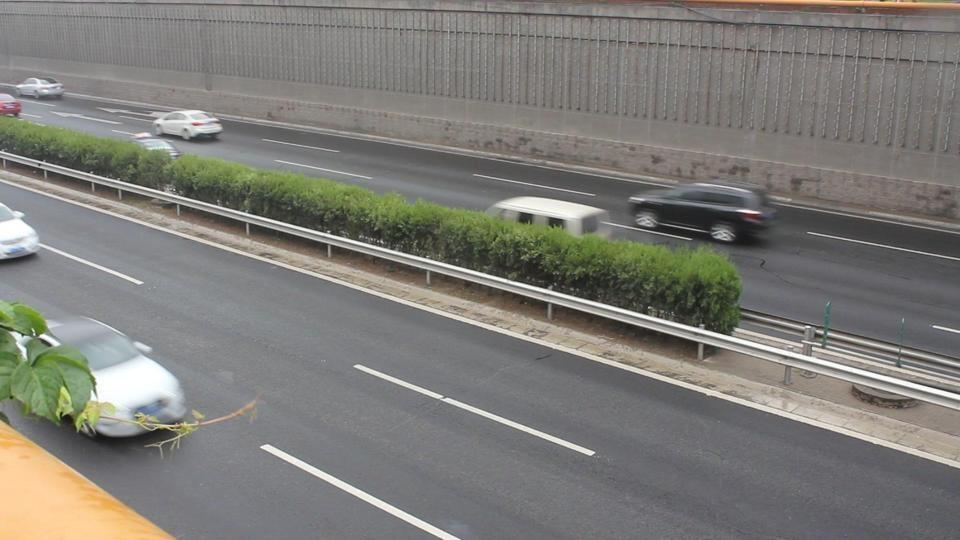car: (1, 301, 191, 445), (627, 182, 779, 246), (489, 197, 603, 236), (150, 109, 224, 142), (0, 204, 41, 261), (16, 77, 64, 100), (0, 92, 23, 117)
